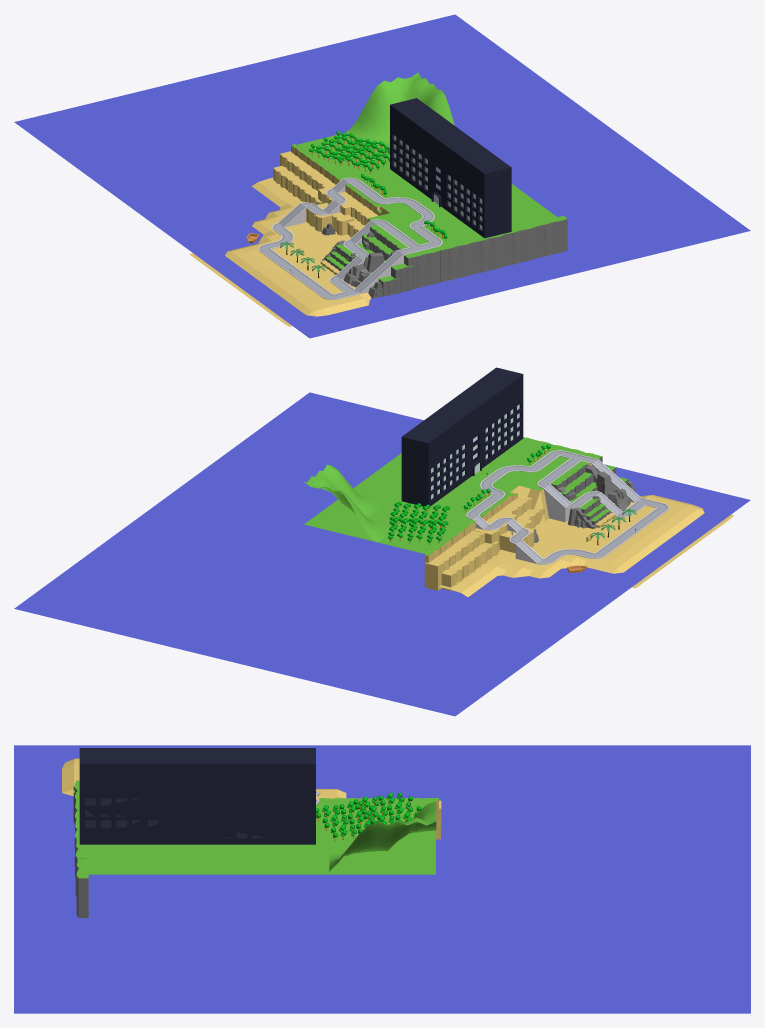
File: Map_Summer.fbx
3 views of the same model, one above another, from view 1: azimuth 30°, elevation 25°; view 2: azimuth 150°, elevation 25°; view 3: azimuth 270°, elevation 25° (orthographic). The views are drawn at different scales.
Visible parts, largest first — view 1: BackGround, building, Rock, Road, Sand, Tree3, Rock2, Rock3; view 2: BackGround, building, Road, Sand, Rock2, Tree3, Rock3; view 3: BackGround, building, Tree3, Rock, Sand.
Part boxes in pixels (x1,y1,x2,y2): BackGround: (14, 14, 750, 338); building: (390, 98, 511, 238); Rock: (368, 215, 567, 298); Road: (258, 177, 442, 299); Sand: (273, 144, 381, 237); Tree3: (309, 131, 389, 173); Rock2: (343, 224, 408, 287); Rock3: (320, 240, 356, 274); BackGround: (14, 392, 750, 716); building: (401, 367, 523, 506); Road: (466, 450, 669, 564); Sand: (424, 492, 544, 590); Rock2: (550, 461, 630, 510); Tree3: (388, 501, 449, 544); Rock3: (568, 496, 614, 528); BackGround: (14, 745, 750, 1013); building: (79, 748, 315, 844); Tree3: (316, 792, 421, 840); Rock: (73, 780, 88, 917); Sand: (316, 795, 441, 839).
Size of the model in its own units: 1643 by 405 by 1896.
